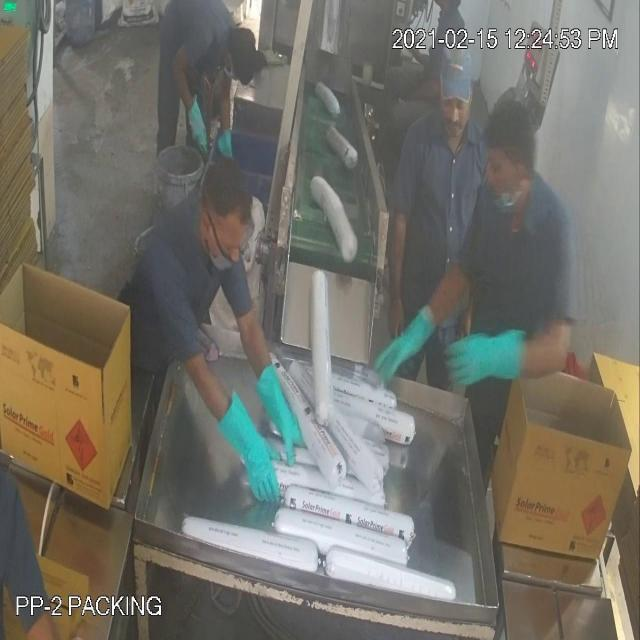Gloves: (28, 71, 497, 450)
